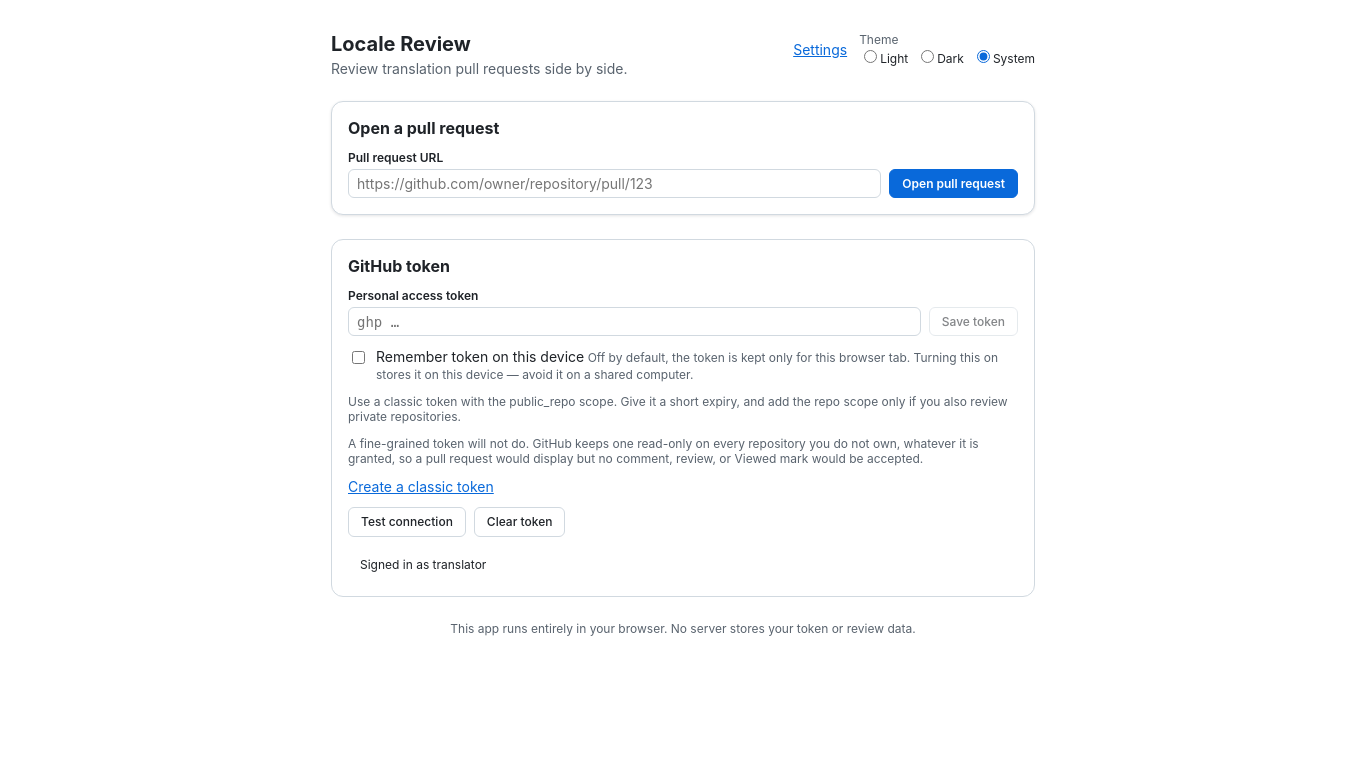
Test: StartScreen without a token › navigates to the pull request route for a valid URL
Type "https://github.com/acme/docs/pull/7/files" into the field labelled "Pull request URL". click: point(615, 184)
box: [348,169,881,198]
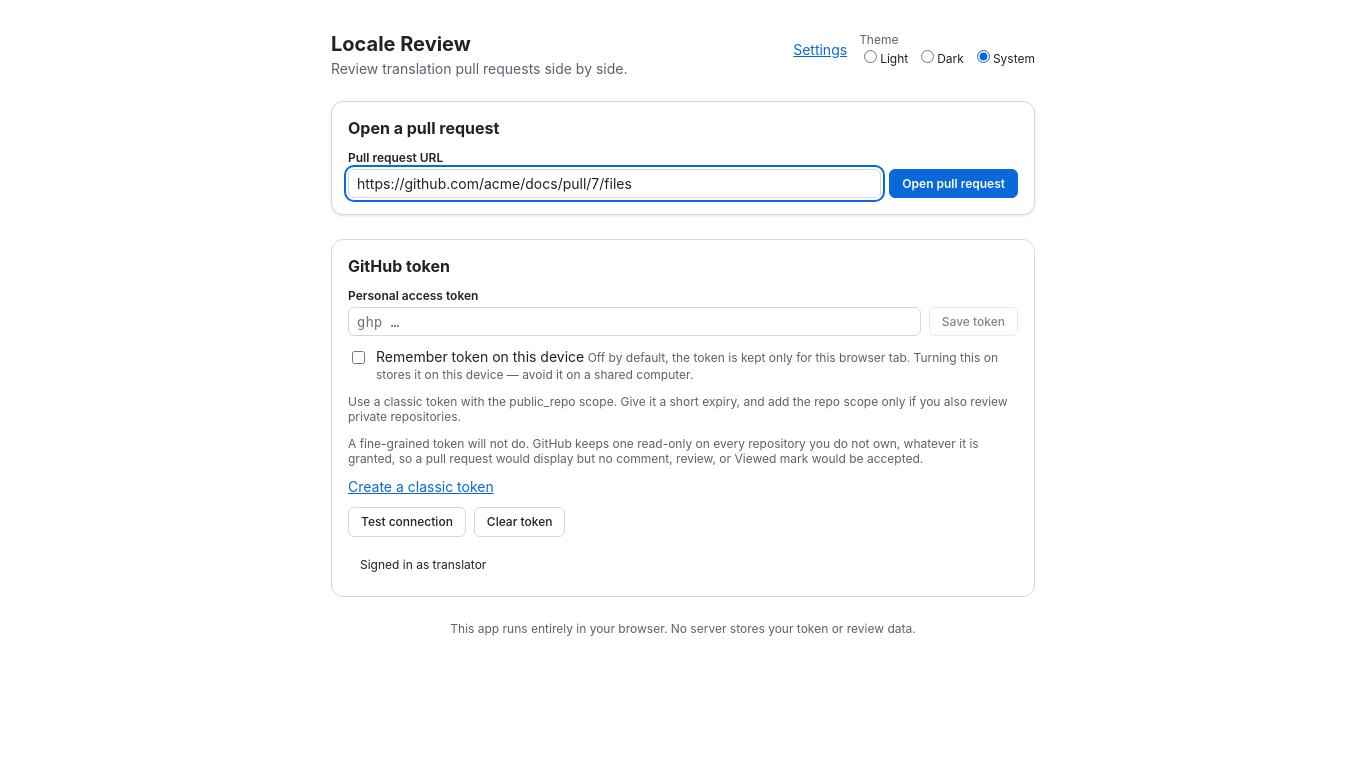
Click the button "Open pull request". click: point(954, 184)
box: [889,169,1018,198]
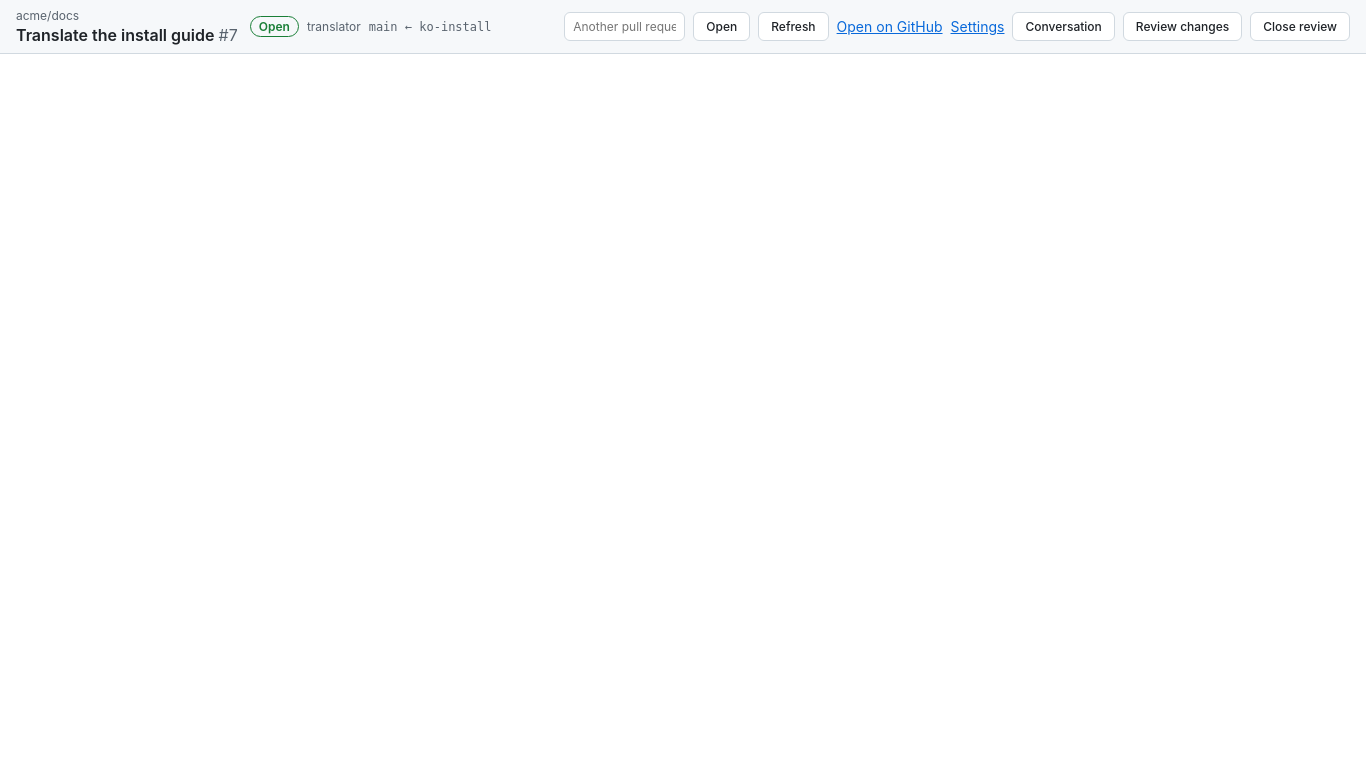
expect the heading "Translate the install guide #7" is shown: met, box [16,25,238,45]
